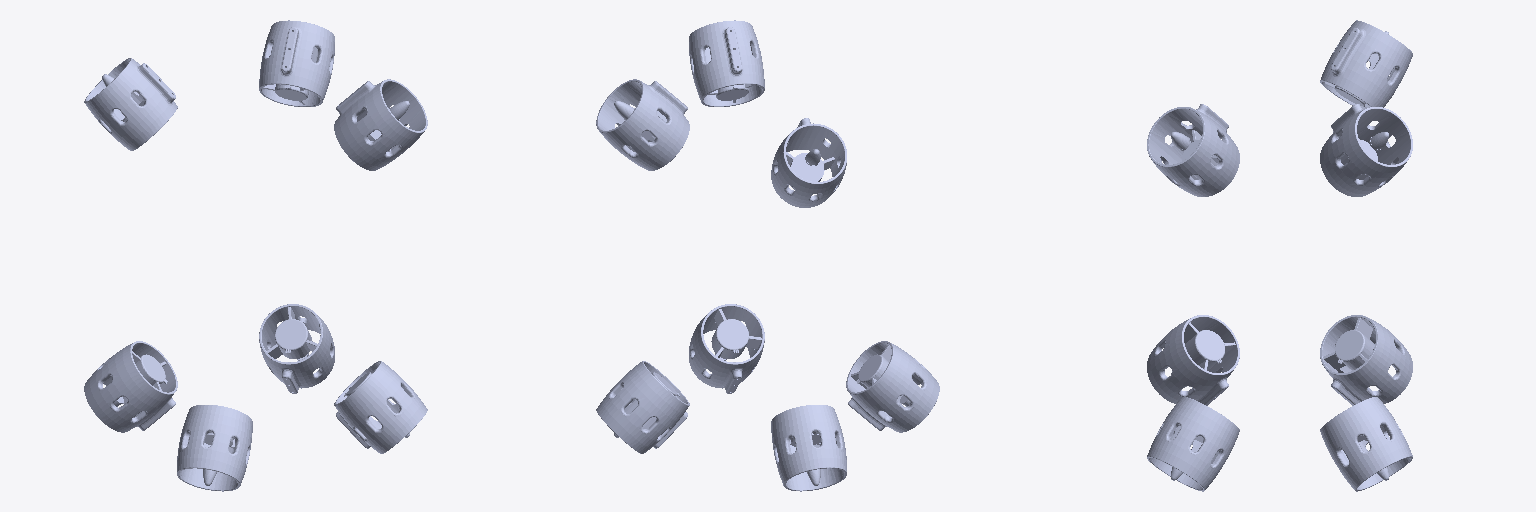
The robot description file, URDF, robot "proto_type":
<?xml version='1.0' encoding='UTF-8'?>
<robot name="proto_type">
  <link name="base_link">
    <inertial>
      <origin xyz="-4.2558171182705e-06 1.1225964209836e-05 -0.215899999907217" rpy="0.0 -0.0 0.0"/>
      <mass value="1.90859968353568"/>
      <inertia ixx="0.0162419971330382" ixy="4.56271680930171e-05" ixz="-4.69435220066161e-11" iyy="0.0168438204899763" iyz="-1.78508266758785e-11" izz="0.0050226778184606"/>
    </inertial>
    <visual>
      <geometry>
        <mesh filename="package://proto_type/meshes/base_link.dae"/>
      </geometry>
      <material name="__unnamed_material_1"/>
      <origin xyz="0.0 0.0 0.0" rpy="0.0 -0.0 0.0"/>
    </visual>
    <collision>
      <geometry>
        <mesh filename="package://proto_type/meshes/base_link.stl"/>
      </geometry>
      <origin xyz="0.0 0.0 0.0" rpy="0.0 -0.0 0.0"/>
    </collision>
  </link>
  <link name="thruster_0">
    <inertial>
      <origin xyz="-0.014292 -0.0143 0.017717" rpy="0.0 -0.0 0.0"/>
      <mass value="0.099392"/>
      <inertia ixx="7.9154e-05" ixy="6.1395e-08" ixz="-3.7817e-06" iyy="7.9136e-05" iyz="-3.804e-06" izz="7.672e-05"/>
    </inertial>
    <visual>
      <geometry>
        <mesh filename="package://proto_type/meshes/thruster_0.dae"/>
      </geometry>
      <material name="__unnamed_material_2"/>
      <origin xyz="0.0 0.0 0.0" rpy="0.0 -0.0 0.0"/>
    </visual>
    <collision>
      <geometry>
        <mesh filename="package://proto_type/meshes/thruster_0.stl"/>
      </geometry>
      <origin xyz="0.0 0.0 0.0" rpy="0.0 -0.0 0.0"/>
    </collision>
  </link>
  <link name="thruster_1">
    <inertial>
      <origin xyz="0.0143 -0.014292 0.017717" rpy="0.0 -0.0 0.0"/>
      <mass value="0.099392"/>
      <inertia ixx="7.9136e-05" ixy="-6.1395e-08" ixz="3.804e-06" iyy="7.9154e-05" iyz="-3.7817e-06" izz="7.672e-05"/>
    </inertial>
    <visual>
      <geometry>
        <mesh filename="package://proto_type/meshes/thruster_1.dae"/>
      </geometry>
      <material name="__unnamed_material_3"/>
      <origin xyz="0.0 0.0 0.0" rpy="0.0 -0.0 0.0"/>
    </visual>
    <collision>
      <geometry>
        <mesh filename="package://proto_type/meshes/thruster_1.stl"/>
      </geometry>
      <origin xyz="0.0 0.0 0.0" rpy="0.0 -0.0 0.0"/>
    </collision>
  </link>
  <link name="thruster_2">
    <inertial>
      <origin xyz="-0.0143 0.014292 0.017717" rpy="0.0 -0.0 0.0"/>
      <mass value="0.099392"/>
      <inertia ixx="7.9136e-05" ixy="-6.1395e-08" ixz="-3.804e-06" iyy="7.9154e-05" iyz="3.7817e-06" izz="7.672e-05"/>
    </inertial>
    <visual>
      <geometry>
        <mesh filename="package://proto_type/meshes/thruster_2.dae"/>
      </geometry>
      <material name="__unnamed_material_4"/>
      <origin xyz="0.0 0.0 0.0" rpy="0.0 -0.0 0.0"/>
    </visual>
    <collision>
      <geometry>
        <mesh filename="package://proto_type/meshes/thruster_2.stl"/>
      </geometry>
      <origin xyz="0.0 0.0 0.0" rpy="0.0 -0.0 0.0"/>
    </collision>
  </link>
  <link name="thruster_3">
    <inertial>
      <origin xyz="0.014292 0.0143 0.017717" rpy="0.0 -0.0 0.0"/>
      <mass value="0.099392"/>
      <inertia ixx="7.9154e-05" ixy="6.1395e-08" ixz="3.7817e-06" iyy="7.9136e-05" iyz="3.804e-06" izz="7.672e-05"/>
    </inertial>
    <visual>
      <geometry>
        <mesh filename="package://proto_type/meshes/thruster_3.dae"/>
      </geometry>
      <material name="__unnamed_material_5"/>
      <origin xyz="0.0 0.0 0.0" rpy="0.0 -0.0 0.0"/>
    </visual>
    <collision>
      <geometry>
        <mesh filename="package://proto_type/meshes/thruster_3.stl"/>
      </geometry>
      <origin xyz="0.0 0.0 0.0" rpy="0.0 -0.0 0.0"/>
    </collision>
  </link>
  <link name="thruster_4">
    <inertial>
      <origin xyz="0.014292 -0.0143 -0.017717" rpy="0.0 -0.0 0.0"/>
      <mass value="0.099392"/>
      <inertia ixx="7.9154e-05" ixy="-6.1395e-08" ixz="-3.7817e-06" iyy="7.9136e-05" iyz="3.804e-06" izz="7.672e-05"/>
    </inertial>
    <visual>
      <geometry>
        <mesh filename="package://proto_type/meshes/thruster_4.dae"/>
      </geometry>
      <material name="__unnamed_material_6"/>
      <origin xyz="0.0 0.0 0.0" rpy="0.0 -0.0 0.0"/>
    </visual>
    <collision>
      <geometry>
        <mesh filename="package://proto_type/meshes/thruster_4.stl"/>
      </geometry>
      <origin xyz="0.0 0.0 0.0" rpy="0.0 -0.0 0.0"/>
    </collision>
  </link>
  <link name="thruster_5">
    <inertial>
      <origin xyz="0.204989569717696 -0.0142922441746005 -0.0177167300549156" rpy="0.0 -0.0 0.0"/>
      <mass value="0.0993924873705004"/>
      <inertia ixx="7.91363117744372e-05" ixy="6.13947103624969e-08" ixz="3.80401853538402e-06" iyy="7.91541243411415e-05" iyz="3.781720562086e-06" izz="7.67197078219348e-05"/>
    </inertial>
    <visual>
      <geometry>
        <mesh filename="package://proto_type/meshes/thruster_5.dae"/>
      </geometry>
      <material name="__unnamed_material_7"/>
      <origin xyz="0.0 0.0 0.0" rpy="0.0 -0.0 0.0"/>
    </visual>
    <collision>
      <geometry>
        <mesh filename="package://proto_type/meshes/thruster_5.stl"/>
      </geometry>
      <origin xyz="0.0 0.0 0.0" rpy="0.0 -0.0 0.0"/>
    </collision>
  </link>
  <link name="thruster_6">
    <inertial>
      <origin xyz="0.205 0.0143 -0.017717" rpy="0.0 -0.0 0.0"/>
      <mass value="0.099392"/>
      <inertia ixx="7.9154e-05" ixy="-6.1395e-08" ixz="3.7817e-06" iyy="7.9136e-05" iyz="-3.804e-06" izz="7.672e-05"/>
    </inertial>
    <visual>
      <geometry>
        <mesh filename="package://proto_type/meshes/thruster_6.dae"/>
      </geometry>
      <material name="__unnamed_material_8"/>
      <origin xyz="0.0 0.0 0.0" rpy="0.0 -0.0 0.0"/>
    </visual>
    <collision>
      <geometry>
        <mesh filename="package://proto_type/meshes/thruster_6.stl"/>
      </geometry>
      <origin xyz="0.0 0.0 0.0" rpy="0.0 -0.0 0.0"/>
    </collision>
  </link>
  <link name="thruster_7">
    <inertial>
      <origin xyz="-0.014292 0.0143 -0.017717" rpy="0.0 -0.0 0.0"/>
      <mass value="0.099392"/>
      <inertia ixx="7.9154e-05" ixy="-6.1395e-08" ixz="3.7817e-06" iyy="7.9136e-05" iyz="-3.804e-06" izz="7.672e-05"/>
    </inertial>
    <visual>
      <geometry>
        <mesh filename="package://proto_type/meshes/thruster_7.dae"/>
      </geometry>
      <material name="__unnamed_material_9"/>
      <origin xyz="0.0 0.0 0.0" rpy="0.0 -0.0 0.0"/>
    </visual>
    <collision>
      <geometry>
        <mesh filename="package://proto_type/meshes/thruster_7.stl"/>
      </geometry>
      <origin xyz="0.0 0.0 0.0" rpy="0.0 -0.0 0.0"/>
    </collision>
  </link>
  <joint name="thruster_0" type="continuous">
    <limit effort="0.0" velocity="0.0"/>
    <parent link="base_link"/>
    <child link="thruster_0"/>
    <axis xyz="-0.49999886 -0.49999886  0.70710839"/>
    <origin xyz="0.10964 0.096917 -0.39159" rpy="0.0 -0.0 0.0"/>
  </joint>
  <joint name="thruster_1" type="continuous">
    <limit effort="0.0" velocity="0.0"/>
    <parent link="base_link"/>
    <child link="thruster_1"/>
    <axis xyz=" 0.49999886 -0.49999886  0.70710839"/>
    <origin xyz="-0.10964 0.096917 -0.39159" rpy="0.0 -0.0 0.0"/>
  </joint>
  <joint name="thruster_2" type="continuous">
    <limit effort="0.0" velocity="0.0"/>
    <parent link="base_link"/>
    <child link="thruster_2"/>
    <axis xyz="-0.49999886  0.49999886  0.70710839"/>
    <origin xyz="0.10964 -0.096917 -0.39159" rpy="0.0 -0.0 0.0"/>
  </joint>
  <joint name="thruster_3" type="continuous">
    <limit effort="0.0" velocity="0.0"/>
    <parent link="base_link"/>
    <child link="thruster_3"/>
    <axis xyz="0.49999886 0.49999886 0.70710839"/>
    <origin xyz="-0.10964 -0.096917 -0.39159" rpy="0.0 -0.0 0.0"/>
  </joint>
  <joint name="thruster_4" type="continuous">
    <limit effort="0.0" velocity="0.0"/>
    <parent link="base_link"/>
    <child link="thruster_4"/>
    <axis xyz=" 0.49999886 -0.49999886 -0.70710839"/>
    <origin xyz="-0.10964 0.096917 -0.040214" rpy="0.0 -0.0 0.0"/>
  </joint>
  <joint name="thruster_5" type="continuous">
    <limit effort="0.0" velocity="0.0"/>
    <parent link="base_link"/>
    <child link="thruster_5"/>
    <axis xyz="-0.49999886 -0.49999886 -0.70710839"/>
    <origin xyz="-0.10964 0.096917 -0.040214" rpy="0.0 -0.0 0.0"/>
  </joint>
  <joint name="thruster_6" type="continuous">
    <limit effort="0.0" velocity="0.0"/>
    <parent link="base_link"/>
    <child link="thruster_6"/>
    <axis xyz=" 0.49999886  0.49999886 -0.70710839"/>
    <origin xyz="-0.10964 -0.096917 -0.040214" rpy="0.0 -0.0 0.0"/>
  </joint>
  <joint name="thruster_7" type="continuous">
    <limit effort="0.0" velocity="0.0"/>
    <parent link="base_link"/>
    <child link="thruster_7"/>
    <axis xyz="-0.49999886  0.49999886 -0.70710839"/>
    <origin xyz="0.10964 -0.096917 -0.040214" rpy="0.0 -0.0 0.0"/>
  </joint>
  <material name="__unnamed_material_1">
    <color rgba="0.75294118 0.75294118 0.75294118 1.        "/>
  </material>
  <material name="__unnamed_material_2">
    <color rgba="0.79216 0.81961 0.93333 1.     "/>
  </material>
  <material name="__unnamed_material_3">
    <color rgba="0.79216 0.81961 0.93333 1.     "/>
  </material>
  <material name="__unnamed_material_4">
    <color rgba="0.79216 0.81961 0.93333 1.     "/>
  </material>
  <material name="__unnamed_material_5">
    <color rgba="0.79216 0.81961 0.93333 1.     "/>
  </material>
  <material name="__unnamed_material_6">
    <color rgba="0.79216 0.81961 0.93333 1.     "/>
  </material>
  <material name="__unnamed_material_7">
    <color rgba="0.79215686 0.81960784 0.93333333 1.        "/>
  </material>
  <material name="__unnamed_material_8">
    <color rgba="0.79216 0.81961 0.93333 1.     "/>
  </material>
  <material name="__unnamed_material_9">
    <color rgba="0.79216 0.81961 0.93333 1.     "/>
  </material>
</robot>

--- Facts derived from the render (not from the file) ---
Views: 3 orthographic renders of the robot side by side, from view 1: azimuth 30°, elevation 25°; view 2: azimuth 150°, elevation 25°; view 3: azimuth 270°, elevation 25°.
Robot: proto_type — 9 links, 8 joints (8 continuous); root link base_link; default pose: every joint at zero.
Visible links, largest first — view 1: thruster_1, thruster_3, thruster_5, thruster_7, thruster_4, thruster_2, thruster_0, thruster_6; view 2: thruster_3, thruster_5, thruster_1, thruster_0, thruster_4, thruster_2, thruster_7, thruster_6; view 3: thruster_5, thruster_3, thruster_1, thruster_6, thruster_2, thruster_0, thruster_4.
Link boxes in pixels (x1=…): thruster_1: x1=84, y1=341, x2=177, y2=432; thruster_3: x1=177, y1=405, x2=252, y2=491; thruster_5: x1=259, y1=20, x2=334, y2=106; thruster_7: x1=334, y1=81, x2=425, y2=170; thruster_4: x1=84, y1=58, x2=177, y2=150; thruster_2: x1=334, y1=361, x2=427, y2=453; thruster_0: x1=259, y1=304, x2=334, y2=393; thruster_6: x1=354, y1=79, x2=427, y2=170; thruster_3: x1=846, y1=341, x2=939, y2=432; thruster_5: x1=596, y1=79, x2=689, y2=170; thruster_1: x1=771, y1=405, x2=846, y2=491; thruster_0: x1=596, y1=361, x2=689, y2=453; thruster_4: x1=771, y1=118, x2=846, y2=207; thruster_2: x1=689, y1=304, x2=764, y2=393; thruster_7: x1=691, y1=20, x2=764, y2=106; thruster_6: x1=689, y1=22, x2=762, y2=102; thruster_5: x1=1320, y1=104, x2=1412, y2=196; thruster_3: x1=1147, y1=315, x2=1239, y2=405; thruster_1: x1=1320, y1=315, x2=1412, y2=405; thruster_6: x1=1147, y1=104, x2=1239, y2=196; thruster_2: x1=1147, y1=397, x2=1239, y2=491; thruster_0: x1=1320, y1=397, x2=1412, y2=491; thruster_4: x1=1320, y1=20, x2=1412, y2=109.
Bounding box of the posed robot: 0.291 × 0.2656 × 0.4183 m (x, y, z).
Meshes: 9 distinct files referenced, 8 mesh visuals loaded (8 Collada DAE); not drawn: 1 (reference not matched to a file when rendering).
